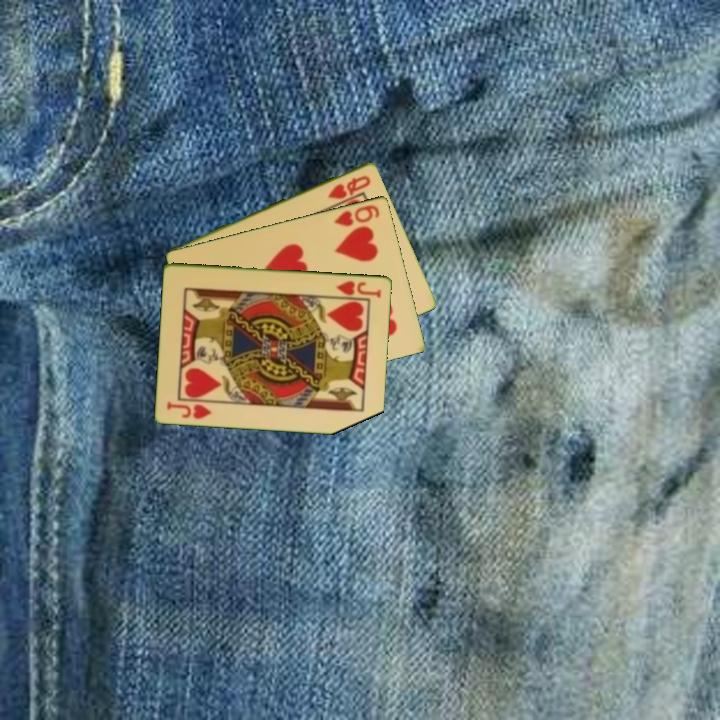6h: (330, 201, 383, 229)
Jh: (164, 397, 215, 422), (333, 277, 384, 301)
Qh: (324, 172, 374, 202)
